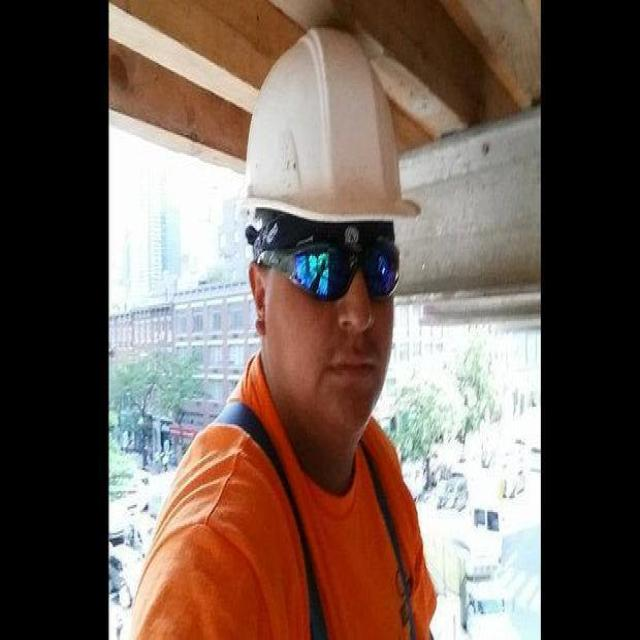helmet: (242, 26, 422, 221)
